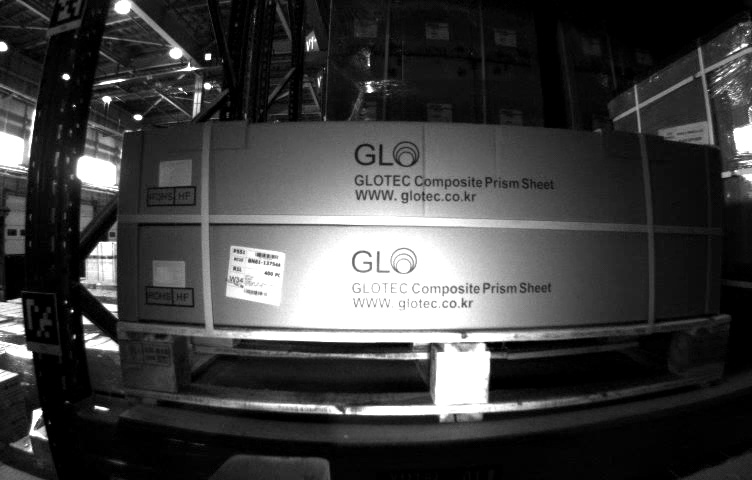True Barcode: (230, 244, 282, 305)
